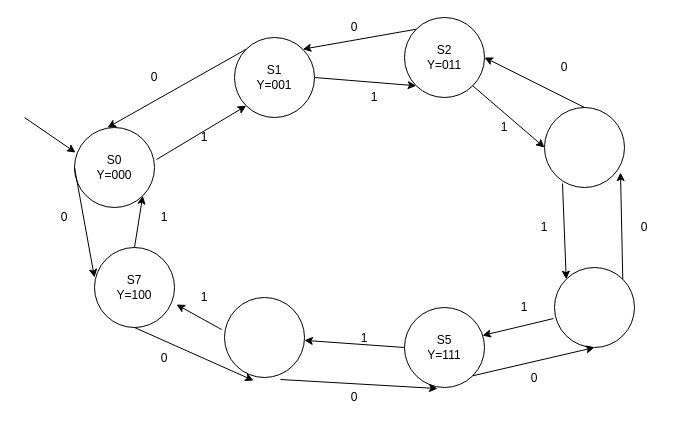
Some shapes in this 682 by 425 pixel diagram are drawn without their labels. The centre of each missing label's shape, as x and y in pixels:
"S3 Y=010" belongs at [584,147].
"S4 Y=110" belongs at [594,307].
"S6 Y=101" belongs at [264,337].
